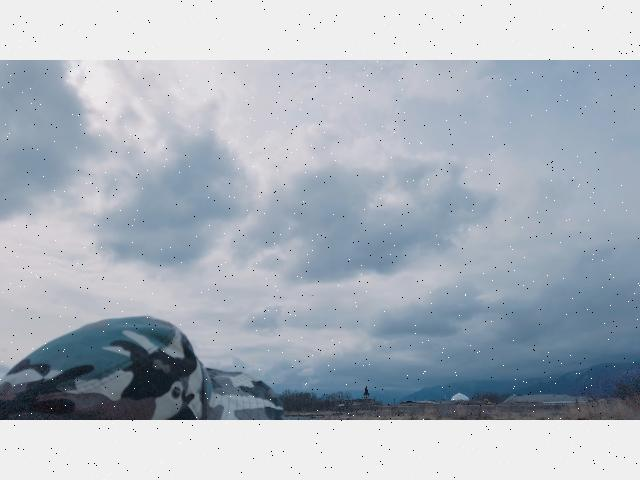Anti-Drone: (304, 290, 318, 299)
